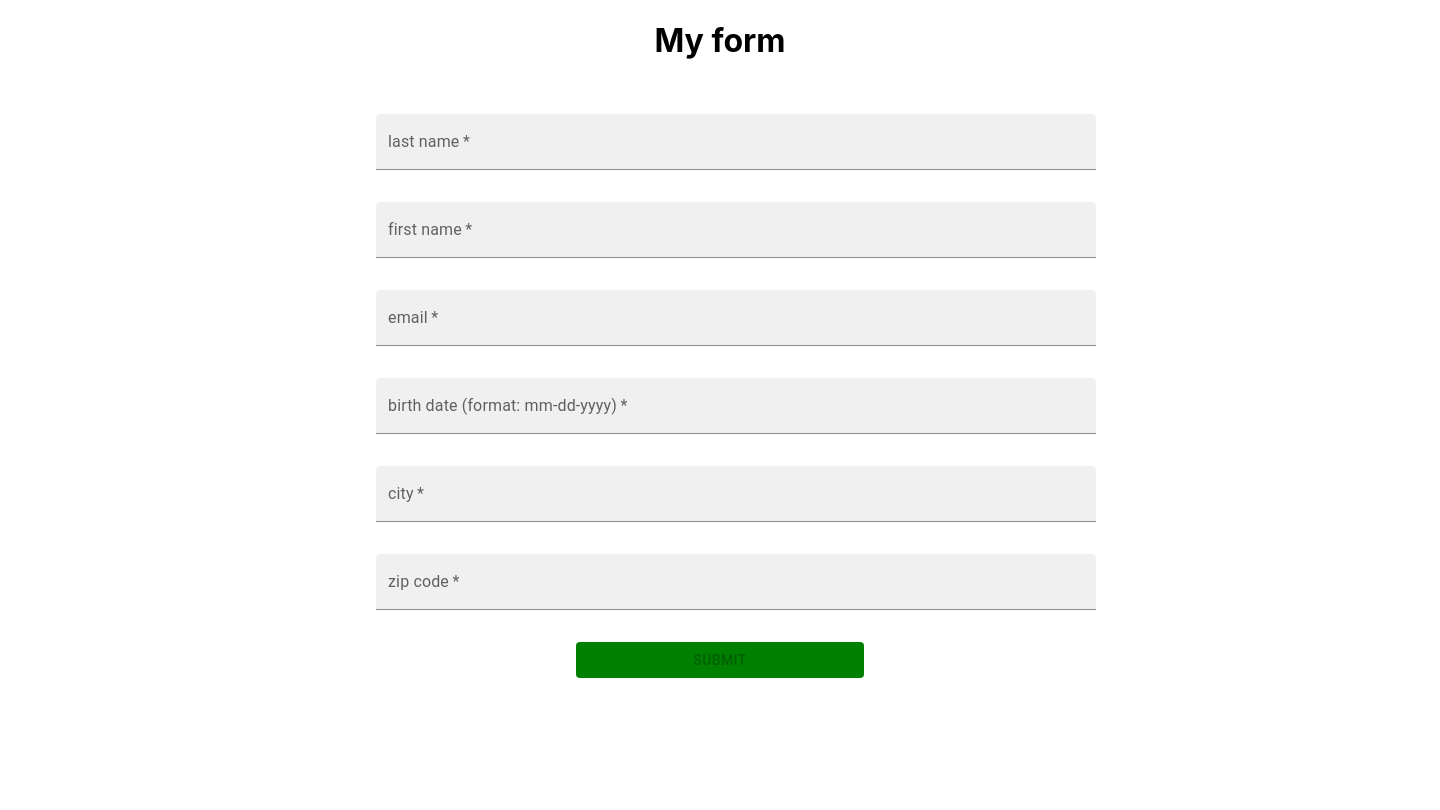
Test case: App component › display success toast and clear form when form is valid
Type "Doe" into the field with test id "lastName".
click(736, 142); type("Doe")  # box [376,114,1096,170]
Type "John" into the field with test id "firstName".
click(736, 230); type("John")  # box [376,202,1096,258]
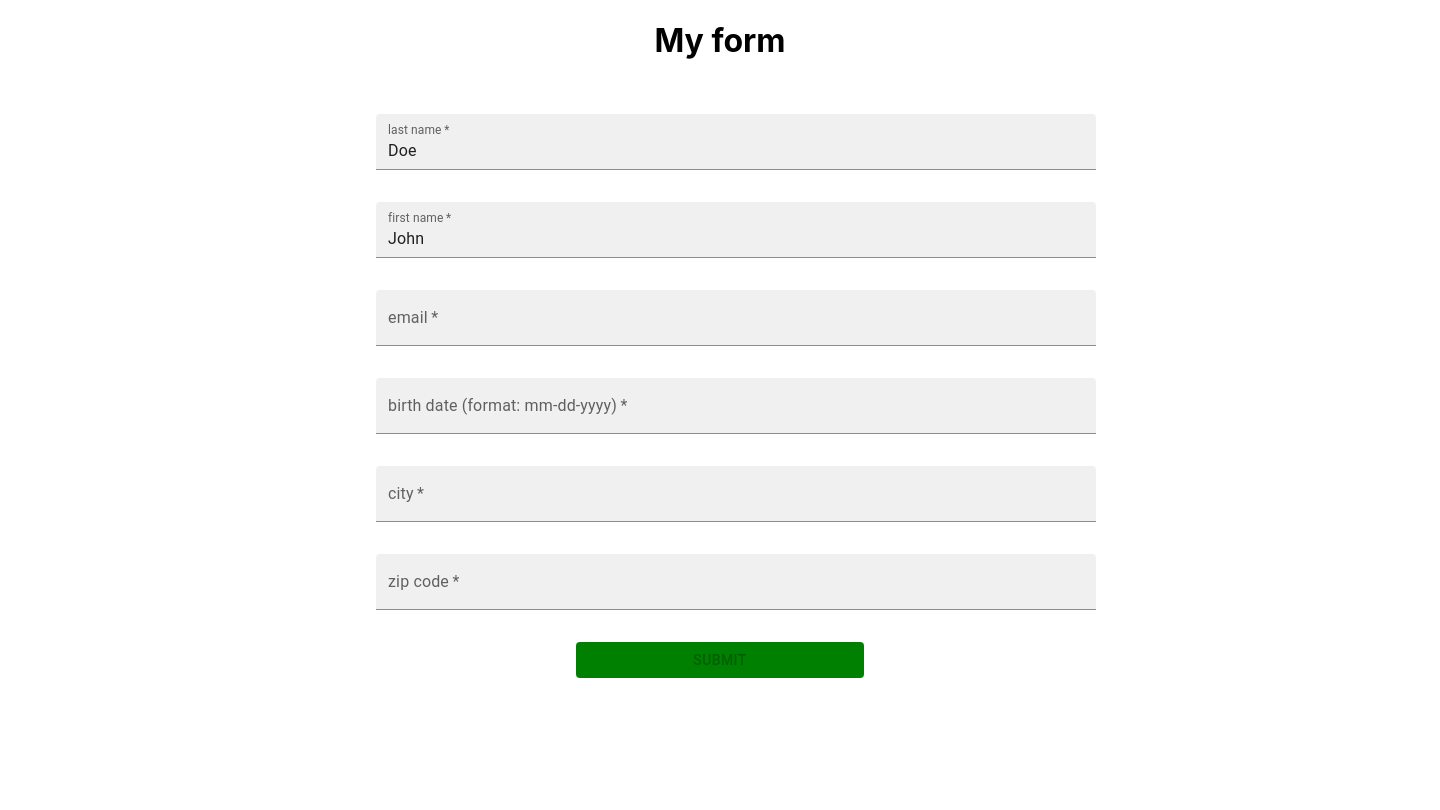
Type "john.doe@example.com" into the field with test id "email".
click(736, 318); type("john.doe@example.com")  # box [376,290,1096,346]
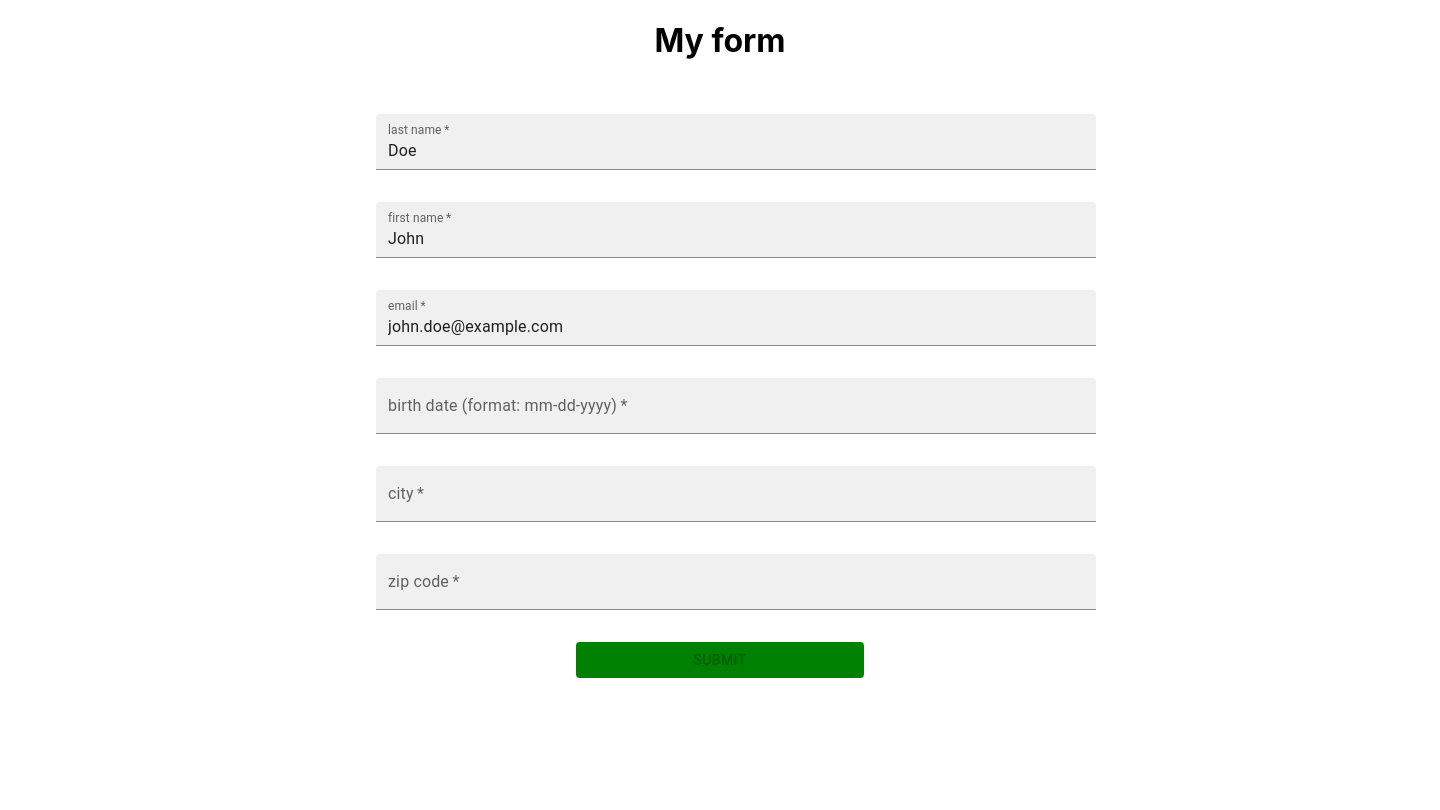
Type "05-20-1988" into the field with test id "birthDate".
click(736, 406); type("05-20-1988")  # box [376,378,1096,434]
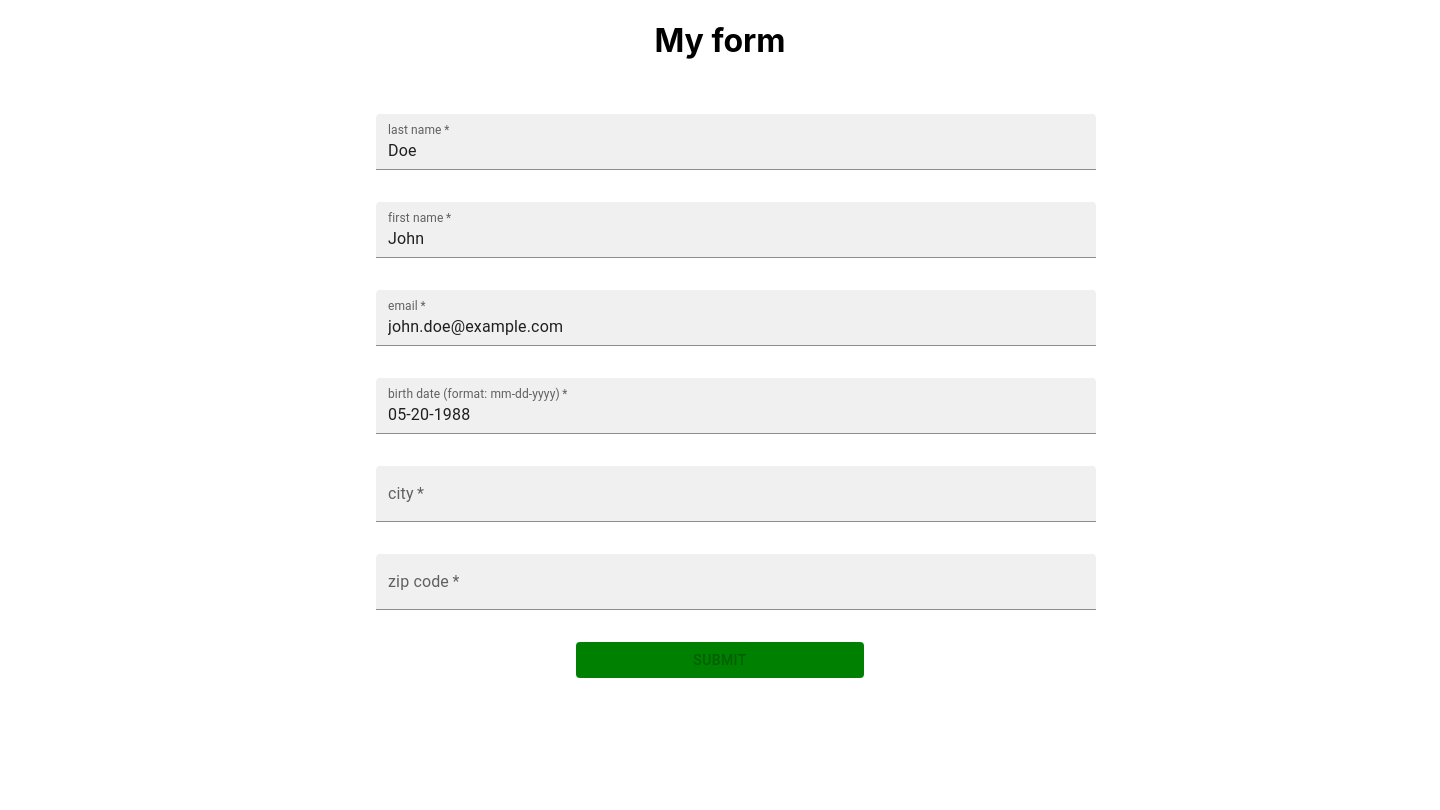
Type "New York" into the field with test id "city".
click(736, 494); type("New York")  # box [376,466,1096,522]
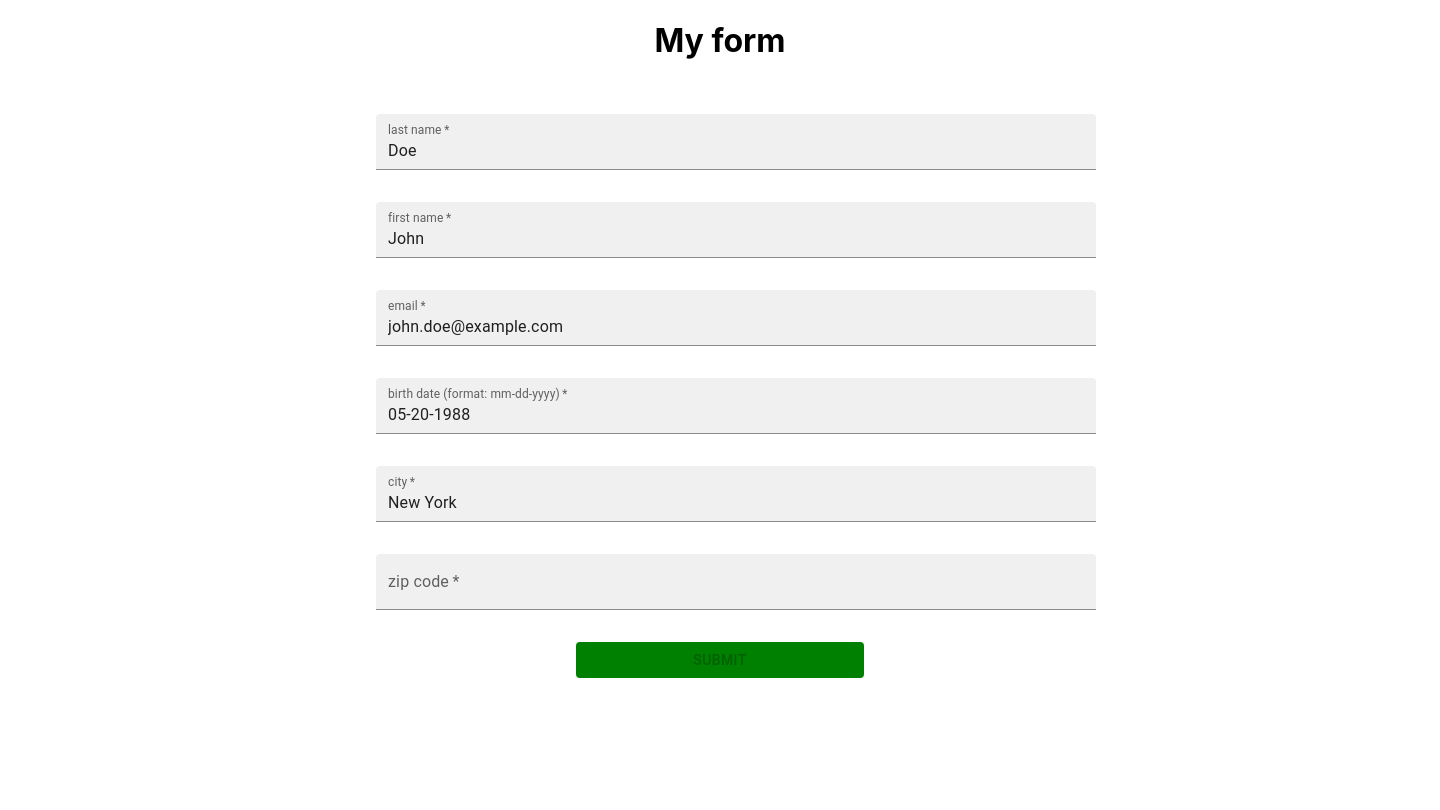
Type "10001" into the field with test id "zipCode".
click(736, 582); type("10001")  # box [376,554,1096,610]
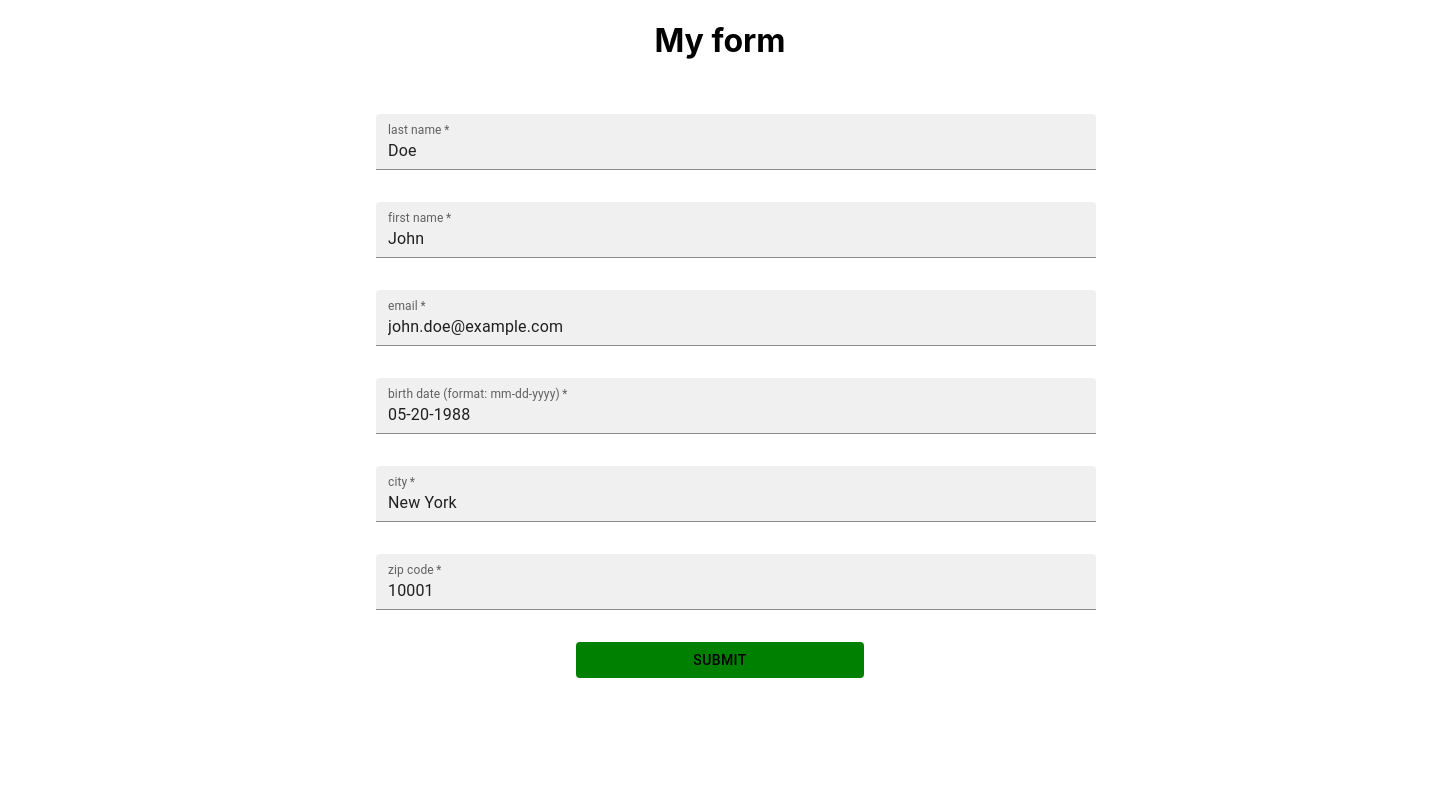
Click the button "Submit".
click(720, 660)  # box [576,642,864,678]
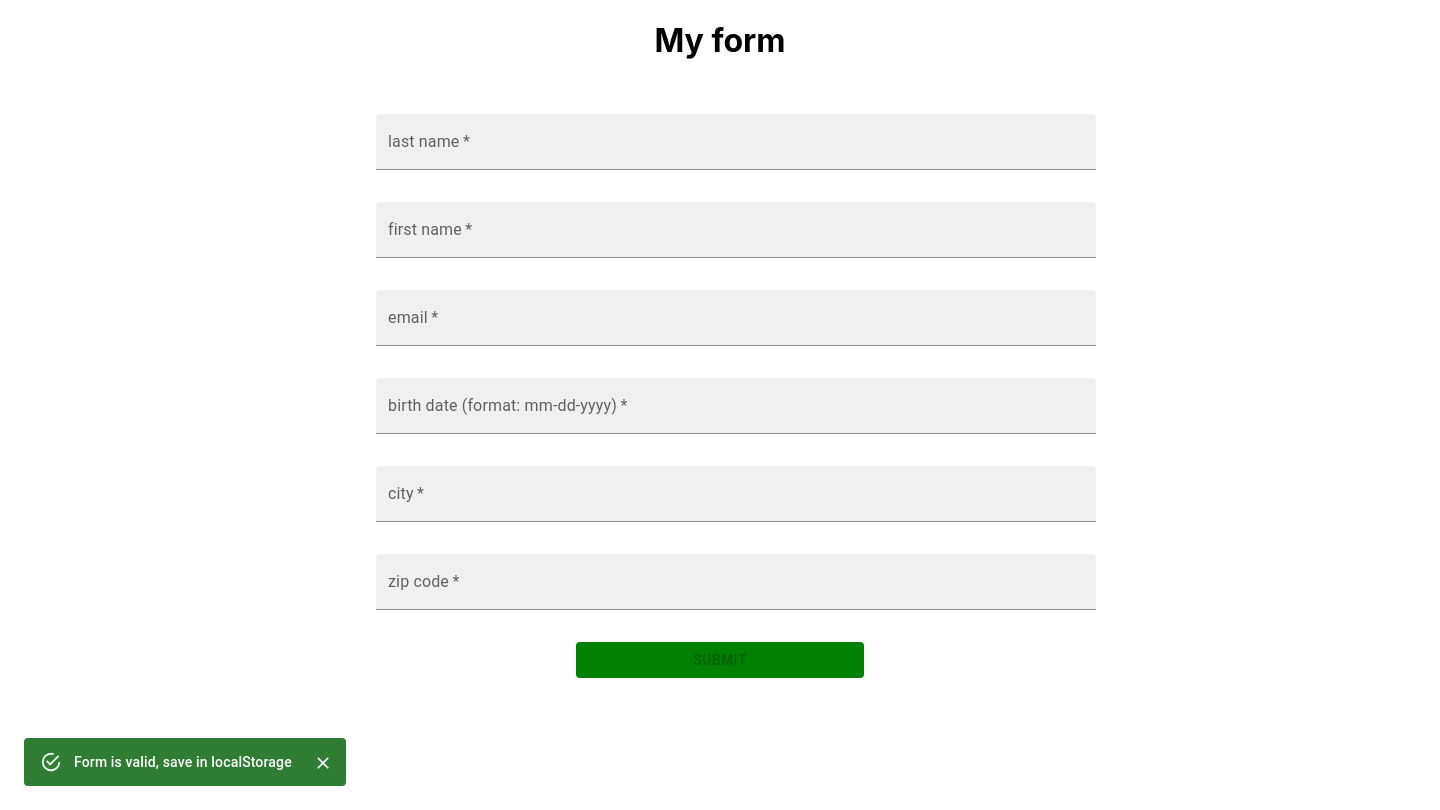
Now the text "Form is valid, save in localStorage" is shown, box [74,754,292,770]
Now the field with test id "lastName" is empty, box [376,114,1096,170]
Now the field with test id "firstName" is empty, box [376,202,1096,258]
